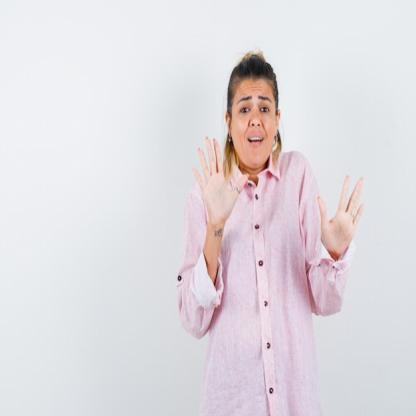stop: (189, 131, 251, 231), (312, 166, 368, 264)
